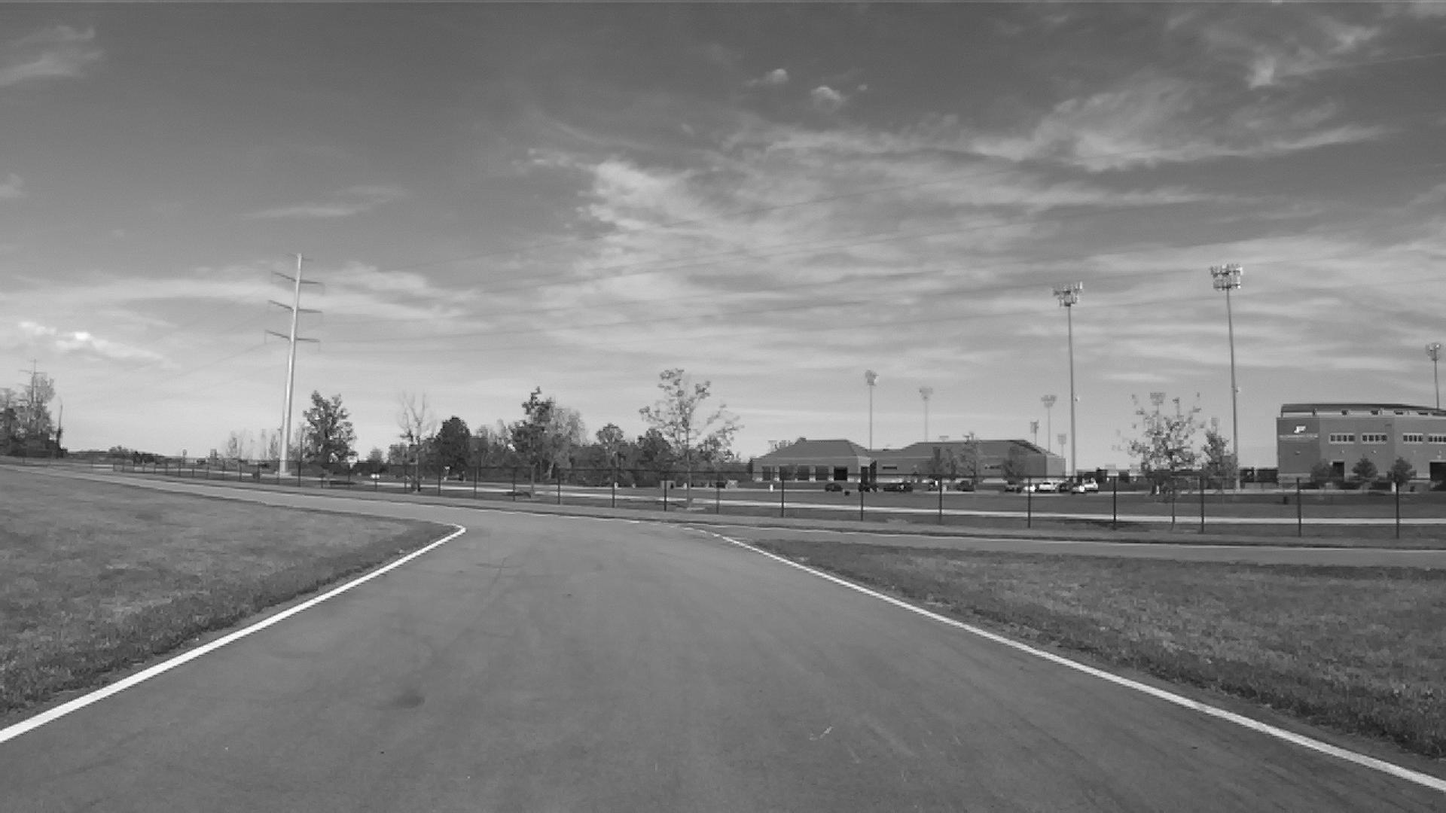white-line: (713, 532, 1445, 792), (0, 524, 465, 743), (682, 526, 695, 530), (702, 530, 705, 532)
